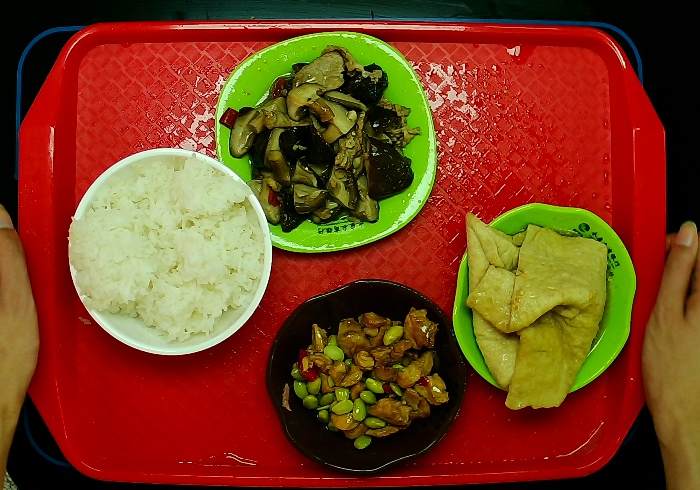YKMZ-Fan_Wan: (65, 146, 275, 359)
YKMZ-Ka_Fei_Ao_Bian_Wan: (261, 276, 470, 477)
YKMZ-Lv_Se_Ao_Bian_Wan: (450, 199, 639, 406)
YKMZ-Lv_Se_Fang_Die: (213, 29, 441, 258)
